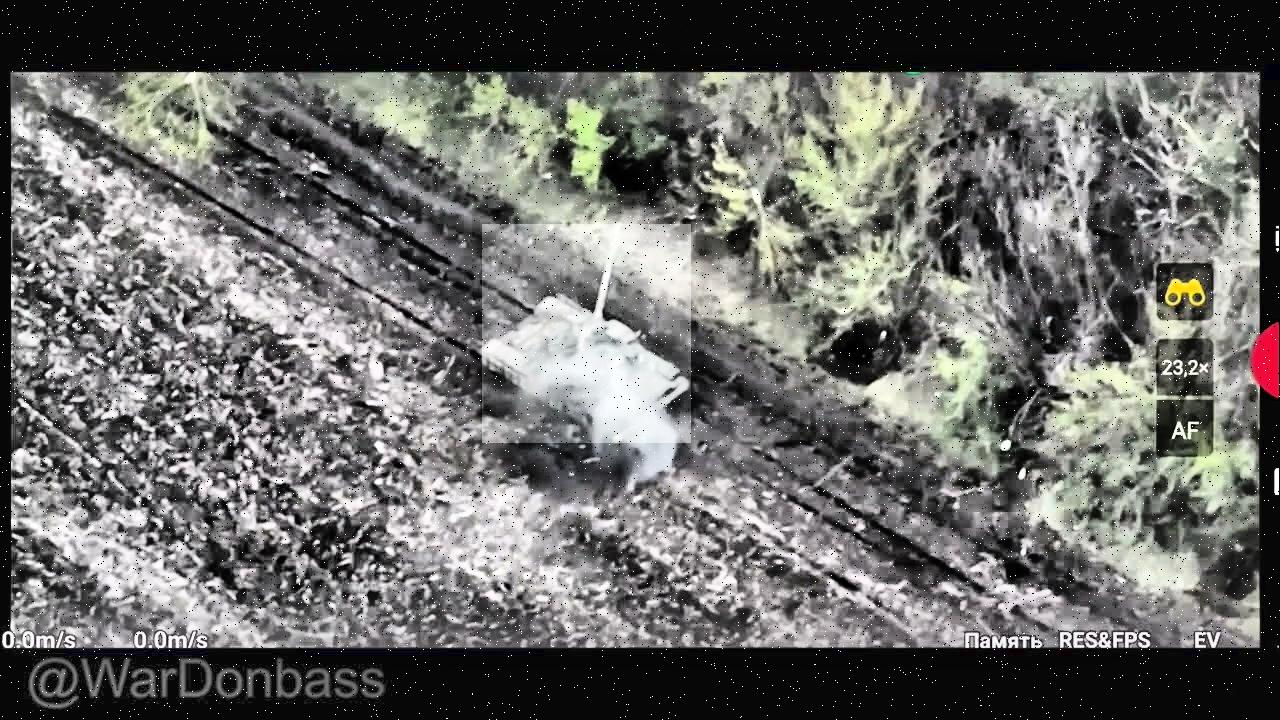military-vehicle: (482, 224, 691, 443)
